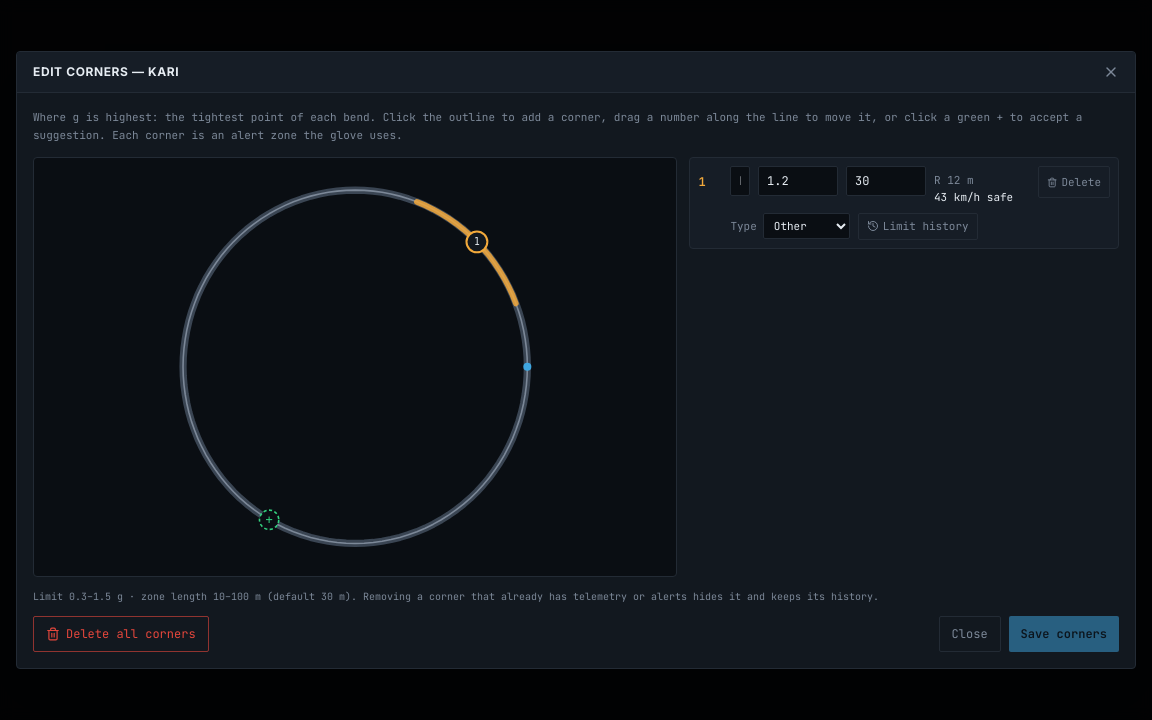
it: CornerEditorDialog (editable map) › removes a marker and shows the server's error when the save is refused
Expected: the element with test id "corner-marker-table" is shown, [689, 157, 1119, 249]
Click the button with test id "marker-remove-1": [1074, 182] box [1038, 166, 1110, 198]
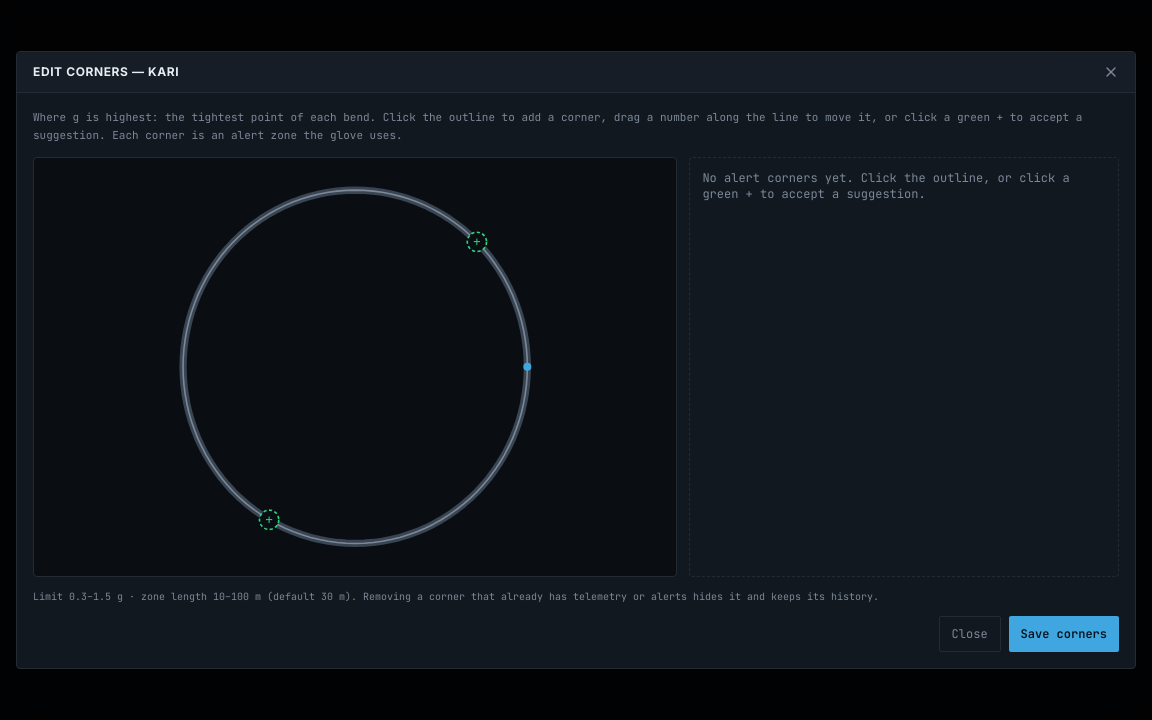
Now the text with test id "editor-no-markers" is shown, box [689, 157, 1119, 577]
Click the button with test id "editor-save-btn": [1064, 634] box [1009, 616, 1119, 652]
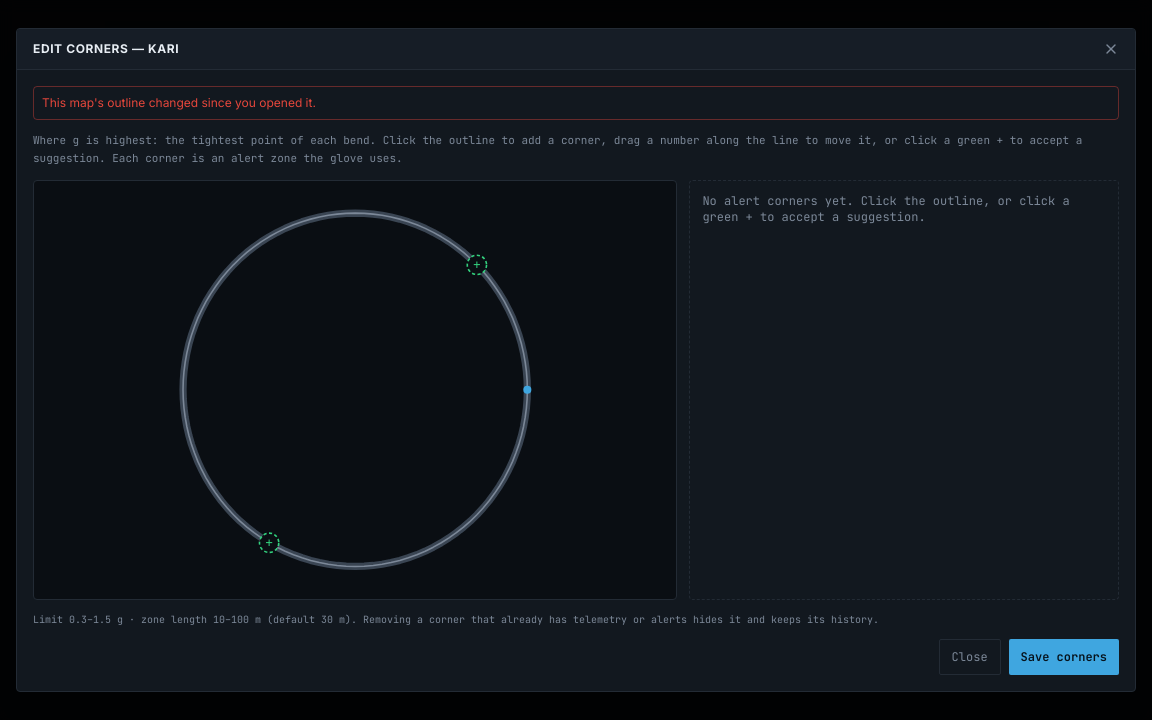
Now the message with test id "editor-error" shows "outline changed", box [42, 95, 316, 110]
